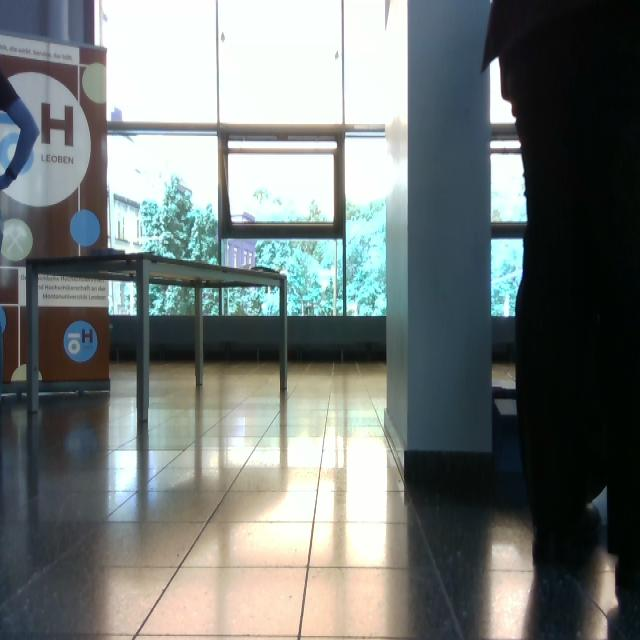door: (1, 28, 111, 393)
light bulb: (1, 219, 34, 263), (70, 209, 101, 248), (385, 114, 408, 164), (82, 62, 107, 105)
person: (481, 1, 640, 593)
pillar: (404, 1, 494, 461)
table: (24, 249, 291, 426)
tiled floor: (2, 359, 639, 639)
window: (98, 1, 394, 324), (107, 132, 221, 317)
